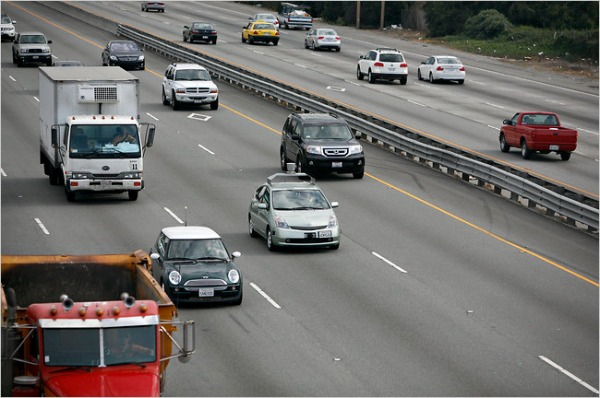car: (1, 252, 196, 396), (35, 63, 155, 203), (142, 223, 245, 311), (278, 110, 367, 182), (499, 109, 578, 161), (160, 60, 220, 111), (356, 45, 409, 86), (417, 53, 465, 86), (102, 36, 146, 72), (12, 30, 54, 66), (240, 20, 281, 48), (304, 26, 342, 52), (181, 20, 218, 46), (1, 15, 15, 41)
